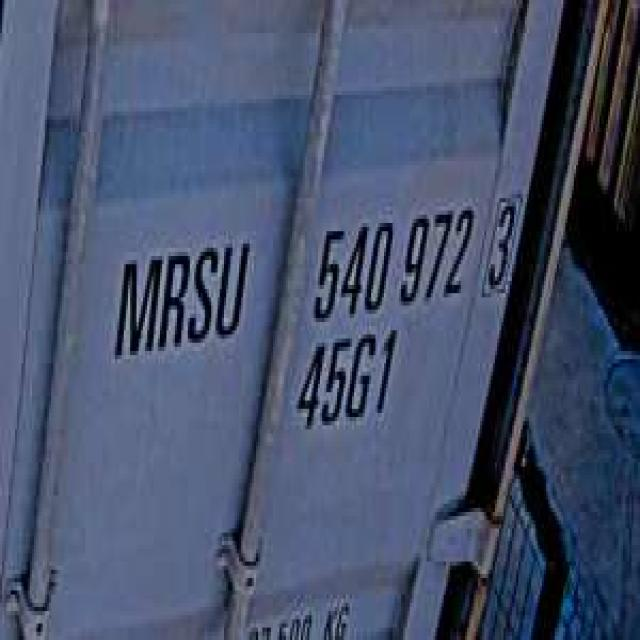dv: (480, 187, 525, 302)
owner: (109, 219, 254, 367)
serial: (307, 194, 476, 326)
size: (292, 322, 403, 434)
